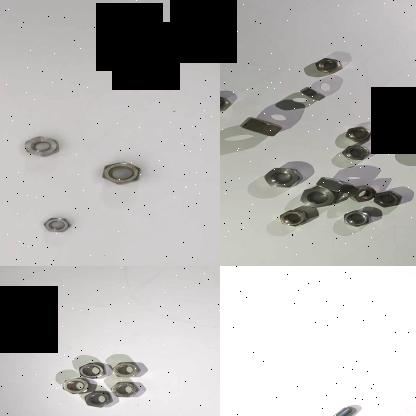Bolts: (311, 401, 365, 416)
NUTS: (96, 158, 146, 186), (296, 184, 342, 208), (263, 164, 305, 190), (234, 115, 284, 135), (312, 54, 352, 78), (278, 204, 314, 228), (22, 135, 64, 155), (313, 174, 353, 195), (385, 114, 416, 138), (339, 142, 375, 162), (107, 378, 143, 398), (40, 214, 76, 233), (340, 206, 374, 226), (340, 122, 374, 142), (82, 388, 116, 408), (298, 84, 330, 104), (110, 358, 142, 378), (371, 188, 399, 210), (59, 376, 93, 394), (348, 184, 378, 202), (80, 360, 108, 378), (220, 90, 236, 112), (405, 134, 416, 156)
